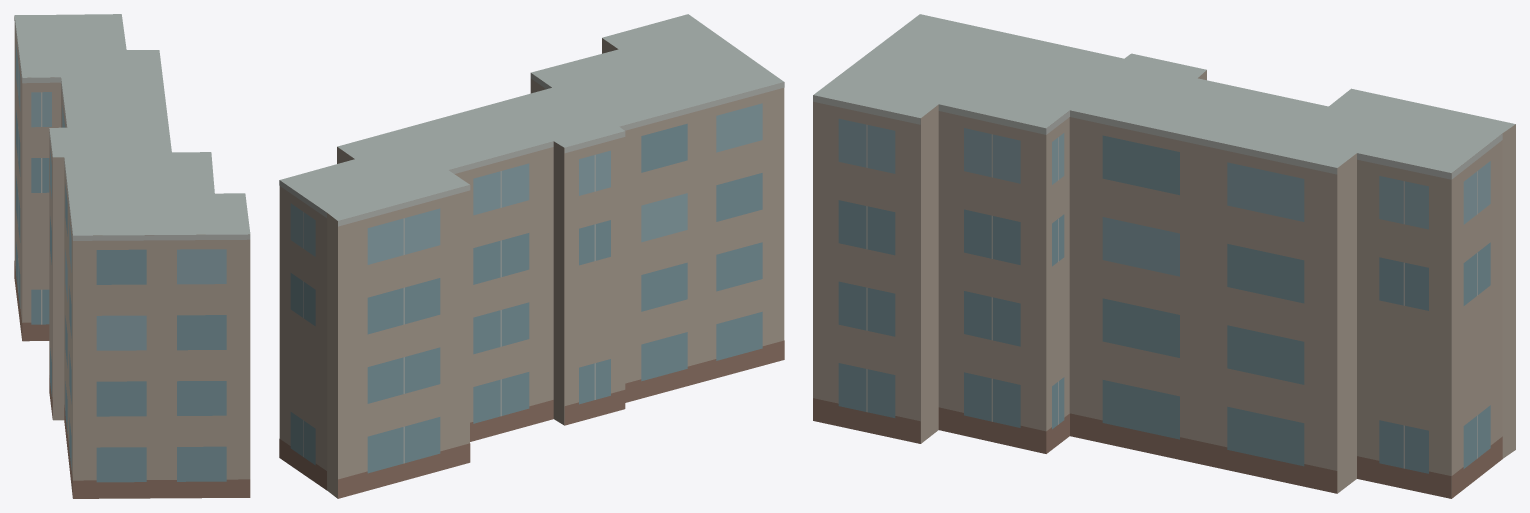
The model's file is survey-upis-32999226.glb.
The picture shows the model from 3 angles, left to right: view 1: azimuth 30°, elevation 25°; view 2: azimuth 150°, elevation 25°; view 3: azimuth 270°, elevation 25°; orthographic projection. The views are drawn at different scales.
Visible parts, largest first — view 1: survey-upis-32999226.tmp; view 2: survey-upis-32999226.tmp; view 3: survey-upis-32999226.tmp.
Boxes of the visible parts, left/top/right/bottom form: survey-upis-32999226.tmp: left=14, top=14, right=250, bottom=498; survey-upis-32999226.tmp: left=279, top=14, right=784, bottom=498; survey-upis-32999226.tmp: left=813, top=14, right=1515, bottom=498.
Size of the model in its own units: 12.58 by 12 by 23.47.
